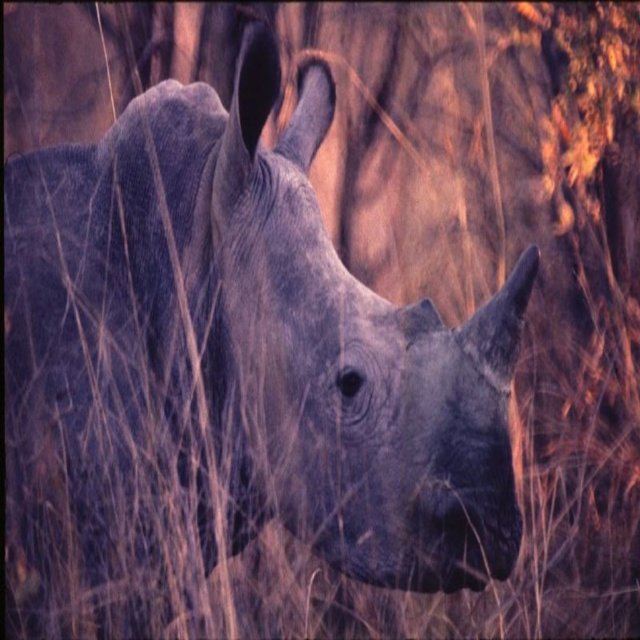Rhinoceros: (0, 15, 551, 639)
